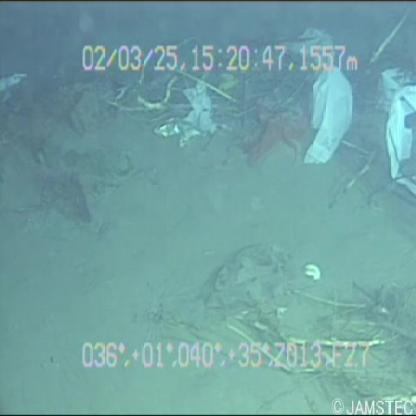Rác: (270, 20, 354, 174), (150, 75, 230, 158), (373, 59, 416, 194)
